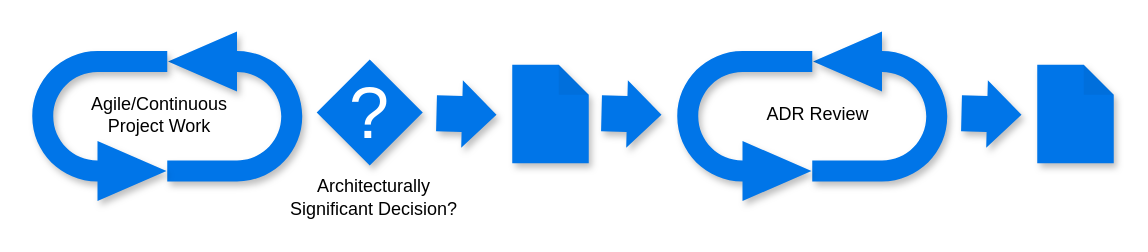
Some shapes in this 1148 by 252 pixel diagram are drawn without their labels. The centre of each missing label's shape, as x and y in pixels:
"Accepted ADR" goes at point (1076, 115).
"Proposed ADR" goes at point (551, 115).
